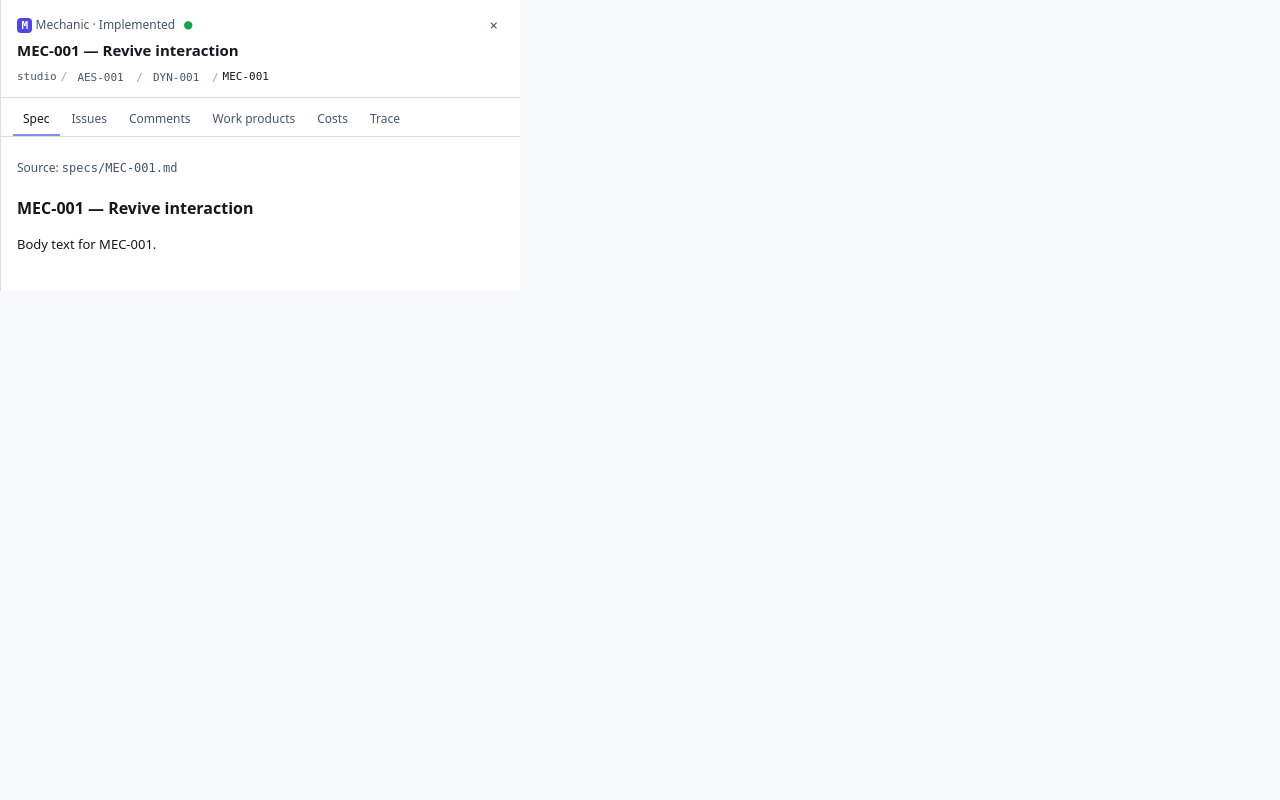
it: NodeDrawer › switches to the Trace tab and shows the canonical path
This screenshot has width=1280, height=800.
Click the tab "Trace". click: coordinates (385, 120)
box: x1=360 y1=104 x2=410 y2=136
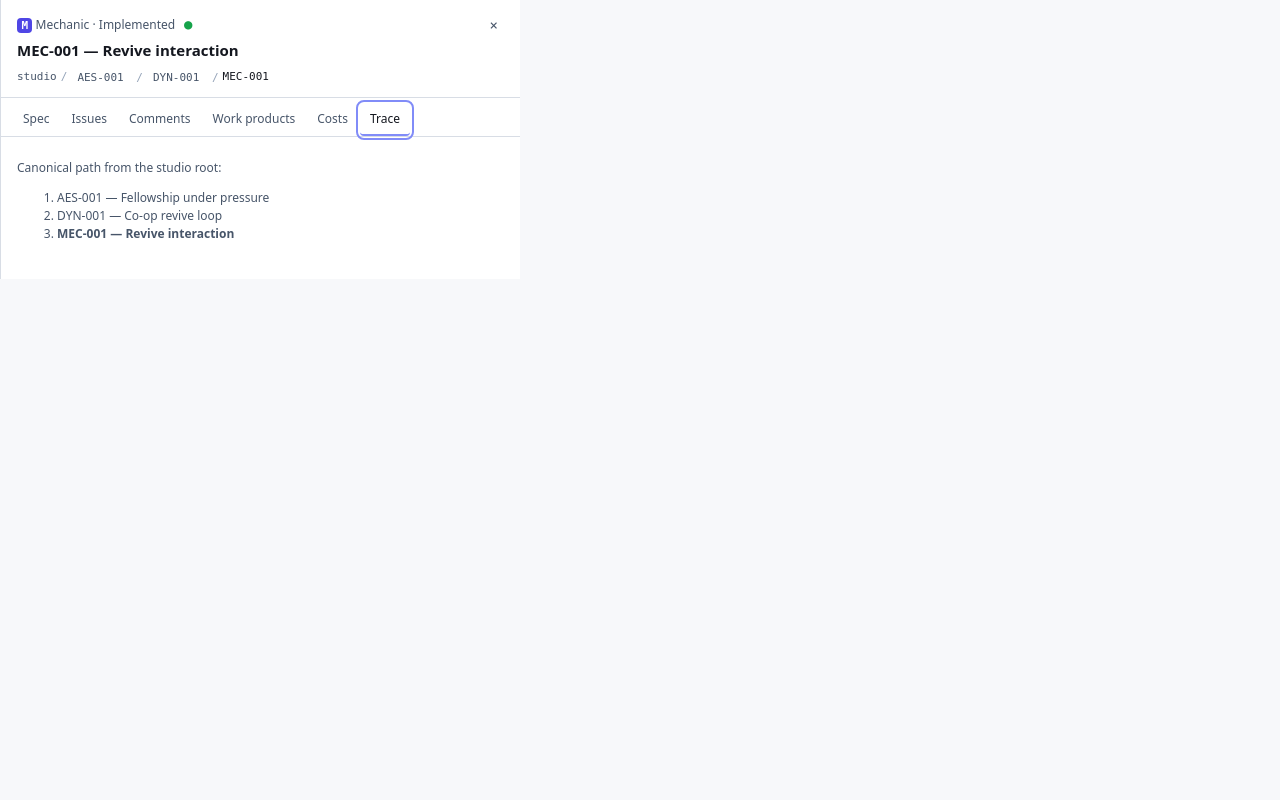
expect the text "Canonical path from the studio root:" is shown: met, box x1=17 y1=159 x2=221 y2=176
